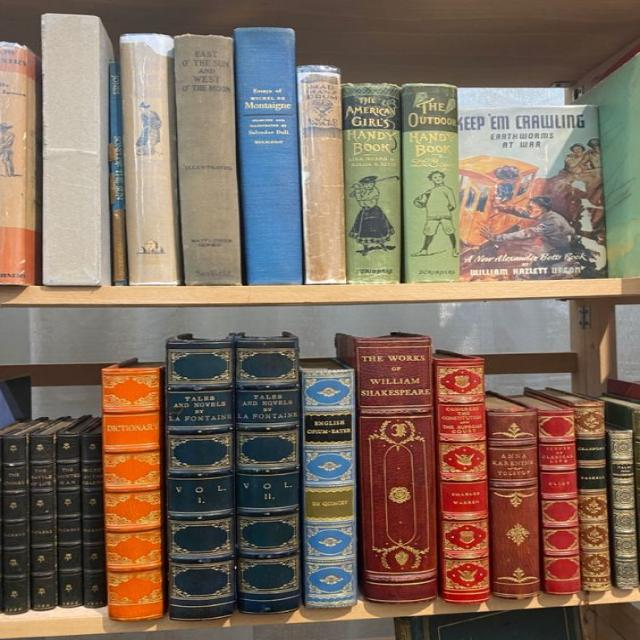book: (357, 338, 437, 604), (168, 338, 234, 618), (236, 338, 303, 613), (235, 28, 304, 284), (42, 13, 105, 284), (174, 35, 242, 285), (101, 369, 165, 621), (120, 37, 182, 284), (436, 359, 491, 603), (302, 369, 357, 608), (402, 87, 461, 282), (344, 83, 400, 282), (297, 65, 347, 284), (488, 409, 538, 598), (540, 410, 583, 594), (573, 404, 614, 592), (0, 42, 30, 282), (29, 434, 57, 611), (2, 437, 28, 613), (81, 433, 105, 609), (611, 431, 637, 588), (59, 433, 82, 606)
